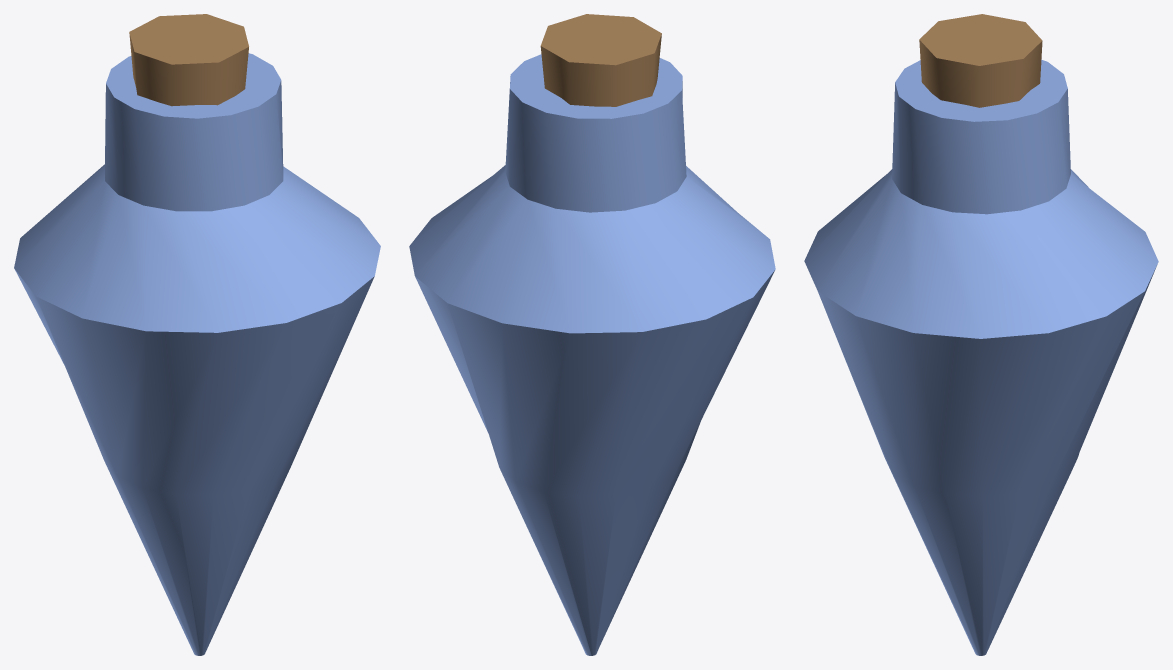
Rendered from Potion_Diamond_Blue.fbx.
The picture shows the model from 3 angles, left to right: view 1: azimuth 30°, elevation 25°; view 2: azimuth 150°, elevation 25°; view 3: azimuth 270°, elevation 25°; orthographic projection.
Visible parts, largest first — view 1: Diamond_Bottle, Diamond_Cork; view 2: Diamond_Bottle, Diamond_Cork; view 3: Diamond_Bottle, Diamond_Cork.
Boxes of the visible parts, x1,y1,x2,y2 form: Diamond_Bottle: [14, 53, 380, 655]; Diamond_Cork: [129, 14, 248, 106]; Diamond_Bottle: [409, 54, 775, 655]; Diamond_Cork: [540, 14, 661, 106]; Diamond_Bottle: [804, 59, 1158, 655]; Diamond_Cork: [919, 14, 1042, 107].
Size of the model in its own units: 0.2516 by 0.4597 by 0.2426.
